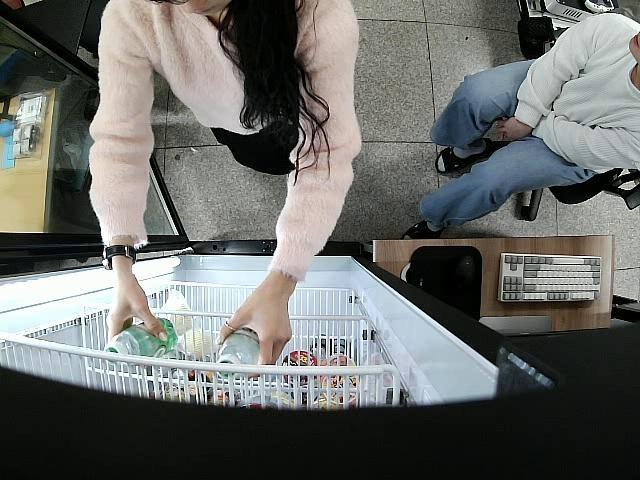18_trevi: (102, 319, 176, 368), (216, 330, 258, 380)
